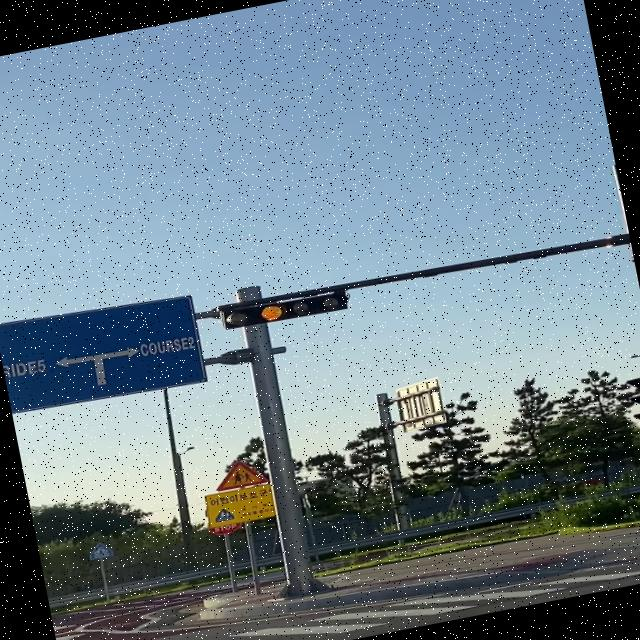yellow_light: (221, 288, 348, 333)
